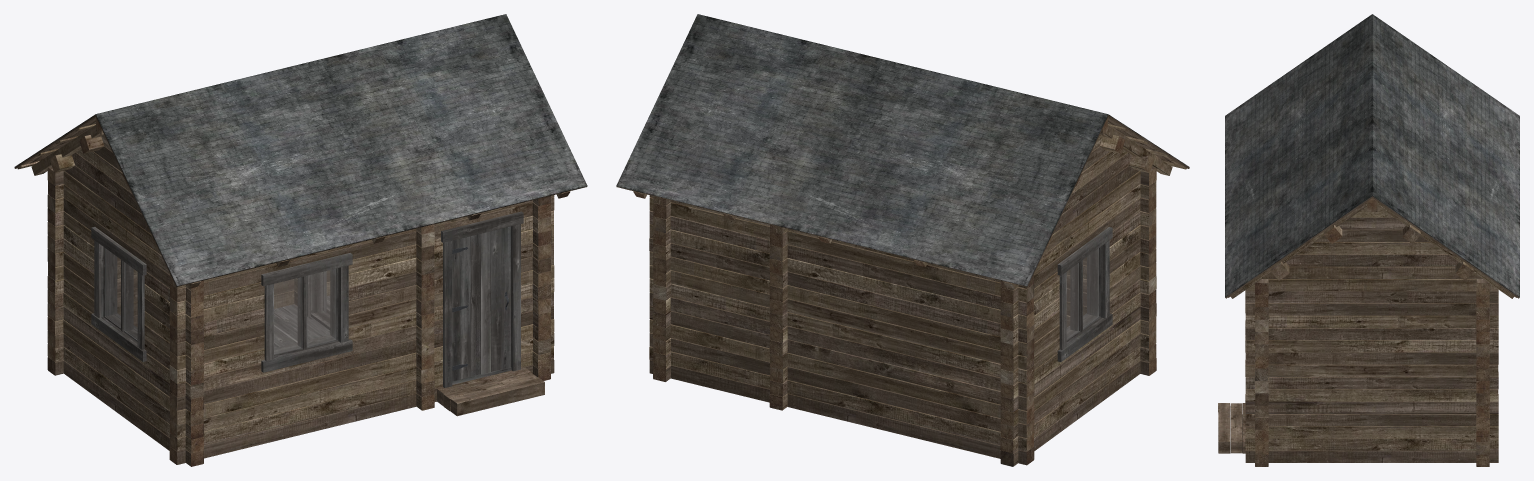
The model's file is wooden_log_cabin.glb.
The picture shows the model from 3 angles, left to right: view 1: azimuth 30°, elevation 25°; view 2: azimuth 150°, elevation 25°; view 3: azimuth 270°, elevation 25°; orthographic projection. The views are drawn at different scales.
Visible parts, largest first — view 1: Base, Door; view 2: Base; view 3: Base.
Boxes of the visible parts, box(x1,y1,x2,y2) form: Base: box(14, 14, 587, 466); Door: box(452, 226, 510, 381); Base: box(616, 14, 1189, 466); Base: box(1218, 14, 1519, 466).
Bounding box in the file's own units: 514 × 368 × 361.
7 materials, 7 textured.
